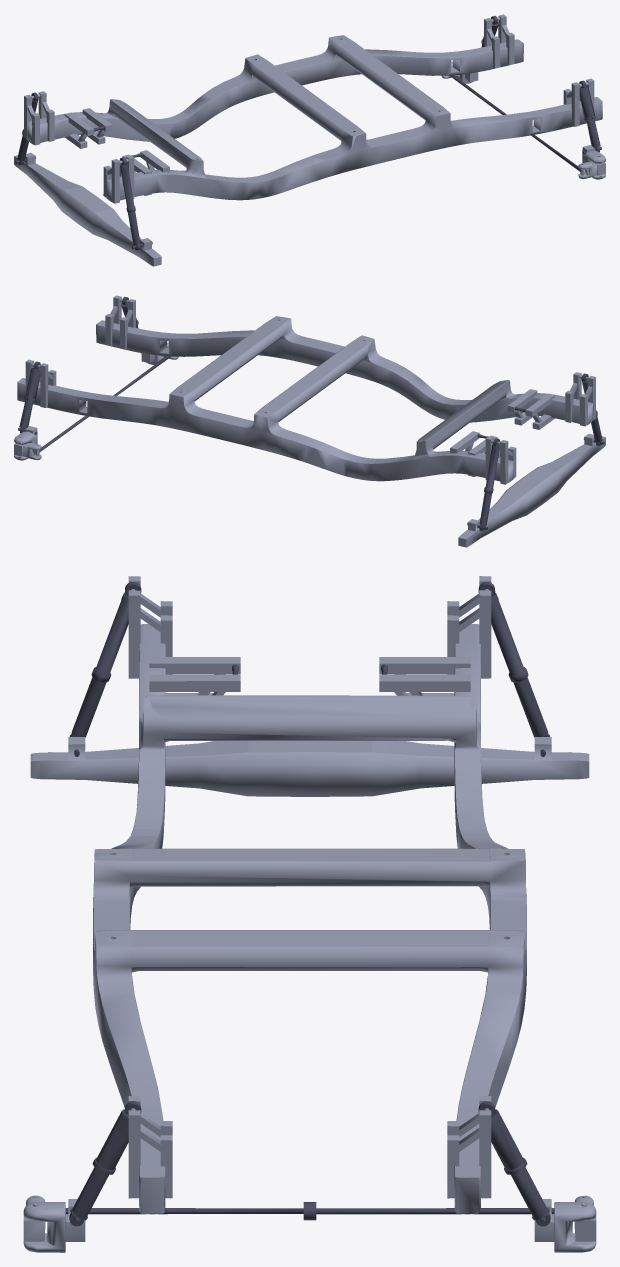
File: chasis.fbx
3 views of the same model, one above another, from view 1: azimuth 30°, elevation 25°; view 2: azimuth 150°, elevation 25°; view 3: azimuth 270°, elevation 25° (orthographic). The views are drawn at different scales.
Visible parts, largest first — view 1: Cube.001; view 2: Cube.001; view 3: Cube.001.
Boxes of the visible parts, box(x1,y1,x2,y2) form: Cube.001: box(14, 14, 605, 266); Cube.001: box(14, 295, 605, 547); Cube.001: box(23, 576, 596, 1252).
Bounding box in the file's own units: 6.18 × 1.36 × 3.12.
